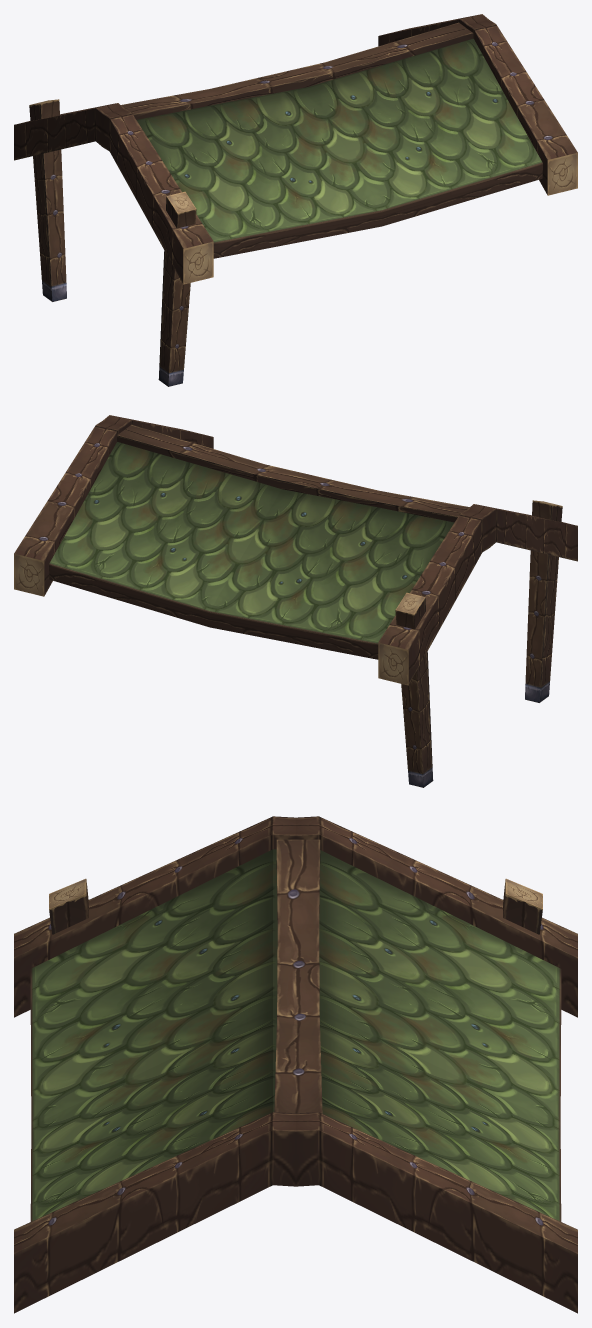
The model's file is big_roof_02.fbx.
3 views of the same model, one above another, from view 1: azimuth 30°, elevation 25°; view 2: azimuth 150°, elevation 25°; view 3: azimuth 270°, elevation 25° (orthographic). The views are drawn at different scales.
Parts seen in each view (by area): view 1: big_roof_02; view 2: big_roof_02; view 3: big_roof_02.
Boxes of the visible parts, box(x1,y1,x2,y2) form: big_roof_02: box(14, 14, 577, 386); big_roof_02: box(14, 415, 577, 787); big_roof_02: box(14, 816, 577, 1313).
Size of the model in its own units: 12.29 by 6.8 by 9.15.
